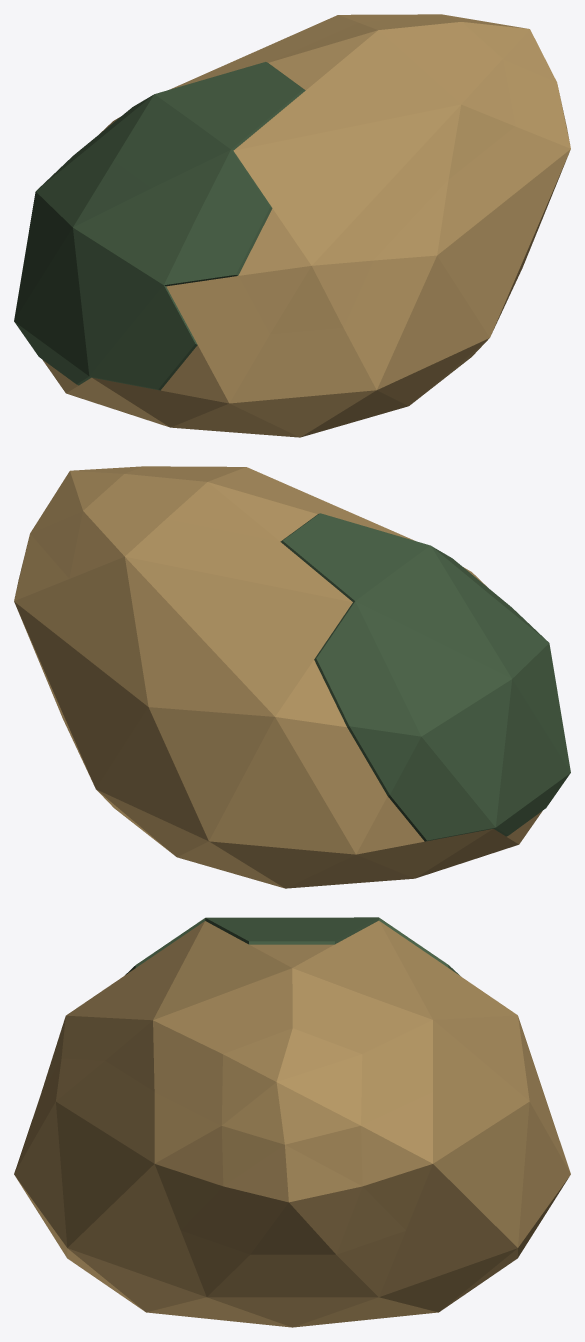
The model's file is MossStoneW.fbx.
3 renders of one model, top to bottom at view 1: azimuth 30°, elevation 25°; view 2: azimuth 150°, elevation 25°; view 3: azimuth 270°, elevation 25°, orthographic. The views are drawn at different scales.
Visible parts, largest first — view 1: MossStoneW; view 2: MossStoneW; view 3: MossStoneW.
Part boxes in pixels (x1,y1,x2,y2): MossStoneW: (14, 14, 570, 437); MossStoneW: (14, 466, 570, 888); MossStoneW: (14, 917, 570, 1327).
Bounding box in the file's own units: 1089 × 595 × 913.
